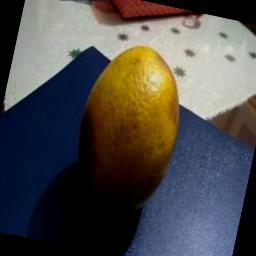Orange Overripe: (46, 35, 202, 227)
